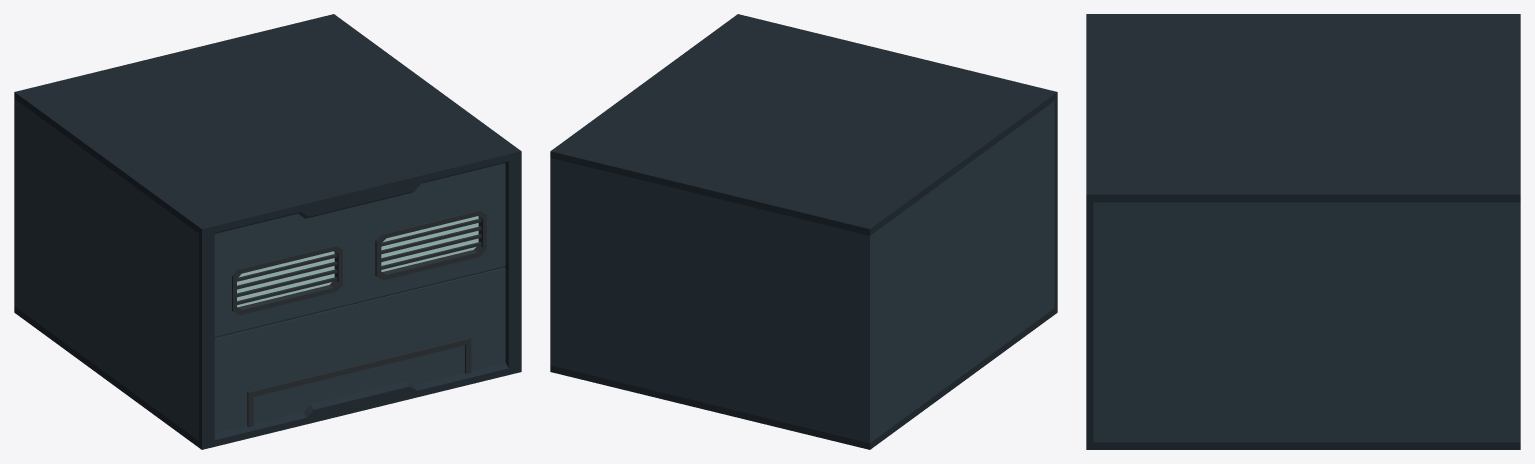
The model's file is SM_BuildingPart_14.fbx.
The picture shows the model from 3 angles, left to right: view 1: azimuth 30°, elevation 25°; view 2: azimuth 150°, elevation 25°; view 3: azimuth 270°, elevation 25°; orthographic projection. The views are drawn at different scales.
Parts seen in each view (by area): view 1: SM_BuildingPart_14; view 2: SM_BuildingPart_14; view 3: SM_BuildingPart_14.
Part boxes in pixels (bbox=[...]): SM_BuildingPart_14: bbox=[14, 14, 521, 449]; SM_BuildingPart_14: bbox=[550, 14, 1057, 449]; SM_BuildingPart_14: bbox=[1086, 14, 1520, 449].
Bounding box in the file's own units: 500 × 330 × 508.
